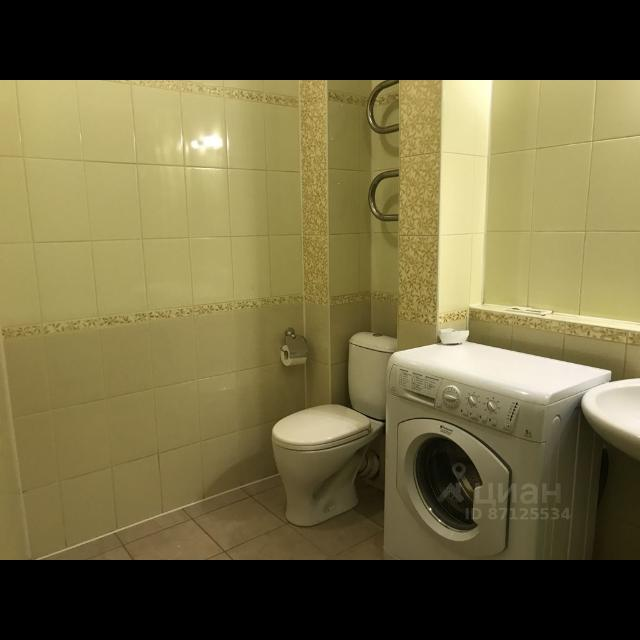Washing-Machine: (383, 339, 611, 559)
